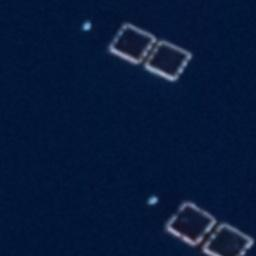square_solid: (157, 196, 221, 251), (101, 17, 161, 68), (142, 37, 195, 84), (198, 219, 256, 256)
